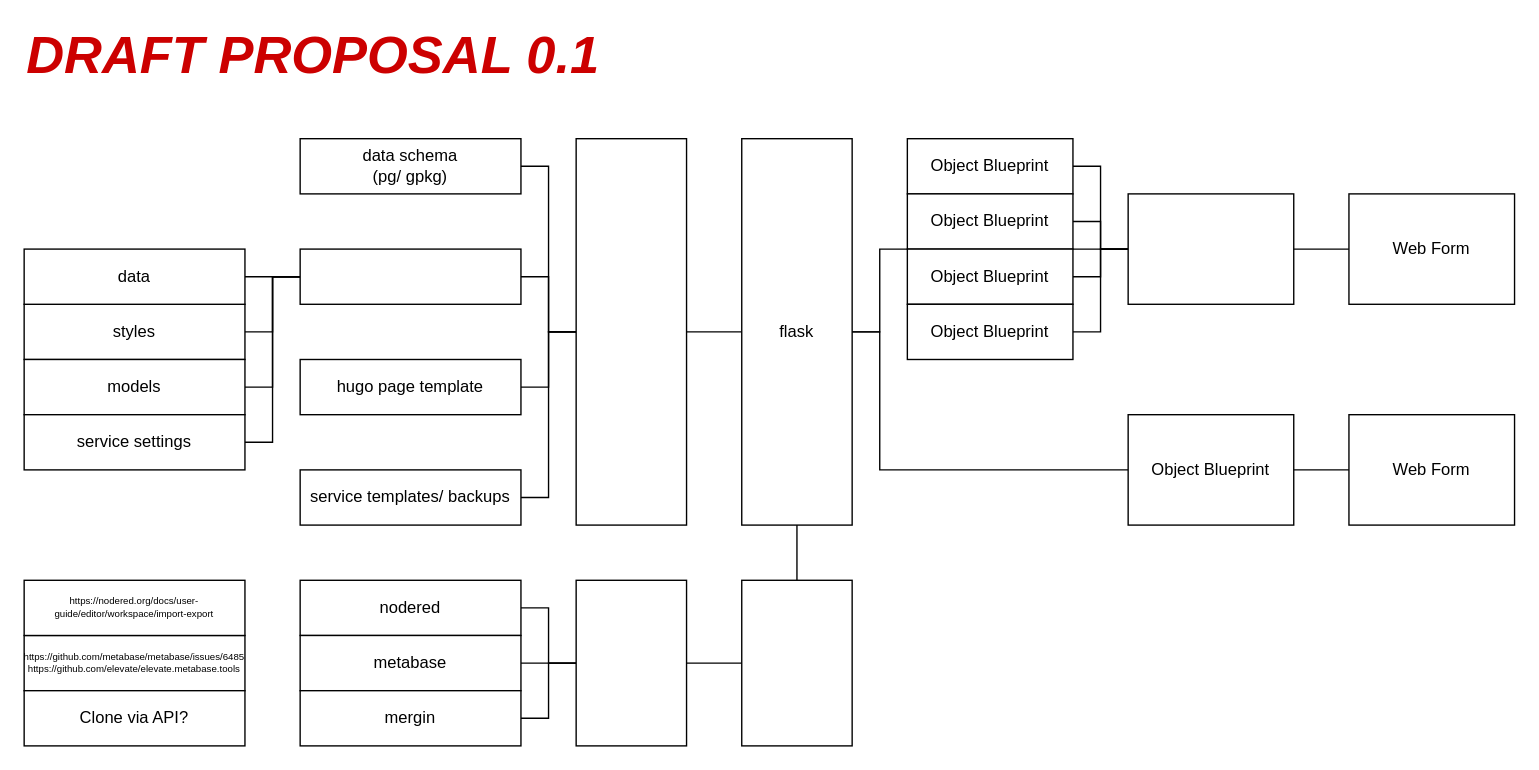
Some shapes in this 1539 by 770 pixel diagram are drawn without their labels. The shapes that lost their labels are listed below. From the top down, each one's box as (x1, y1, x2, y2) in pixels, then its label:
(1127, 193, 1294, 304): Solution Blueprint
(299, 248, 521, 304): qgis project
(575, 137, 687, 525): filesystem
(575, 579, 687, 746): Services
(740, 579, 852, 746): API
